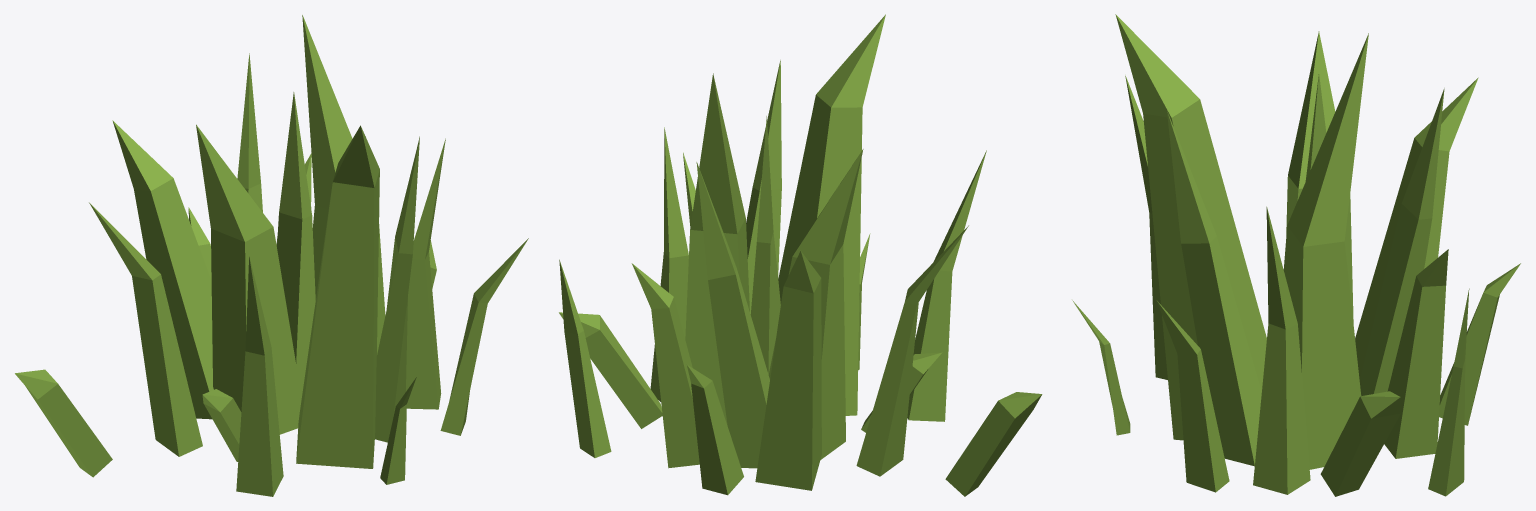
Rendered from Grass_07.fbx.
3 renders of one model, left to right at view 1: azimuth 30°, elevation 25°; view 2: azimuth 150°, elevation 25°; view 3: azimuth 270°, elevation 25°, orthographic. The views are drawn at different scales.
Visible parts, largest first — view 1: Grass_07; view 2: Grass_07; view 3: Grass_07.
Boxes of the visible parts, bbox=[...] form: Grass_07: bbox=[15, 15, 528, 496]; Grass_07: bbox=[559, 14, 1042, 496]; Grass_07: bbox=[1072, 14, 1520, 496].
Bounding box in the file's own units: 40.03 × 32.57 × 31.73.
